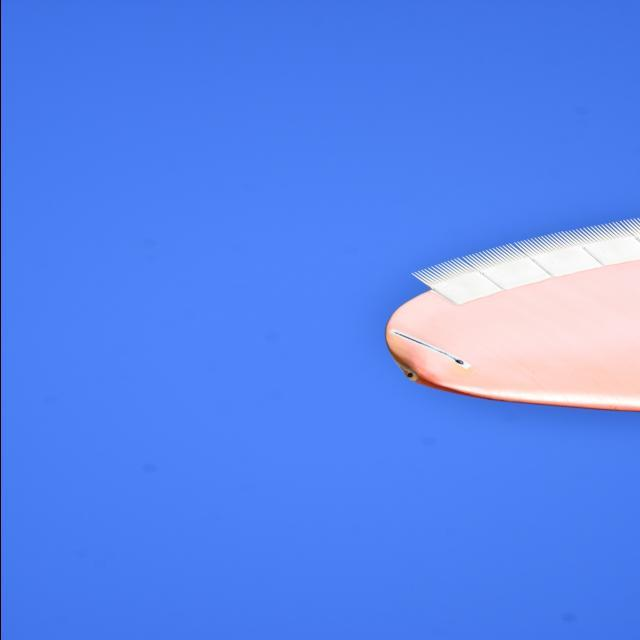Crack: (392, 328, 447, 367)
